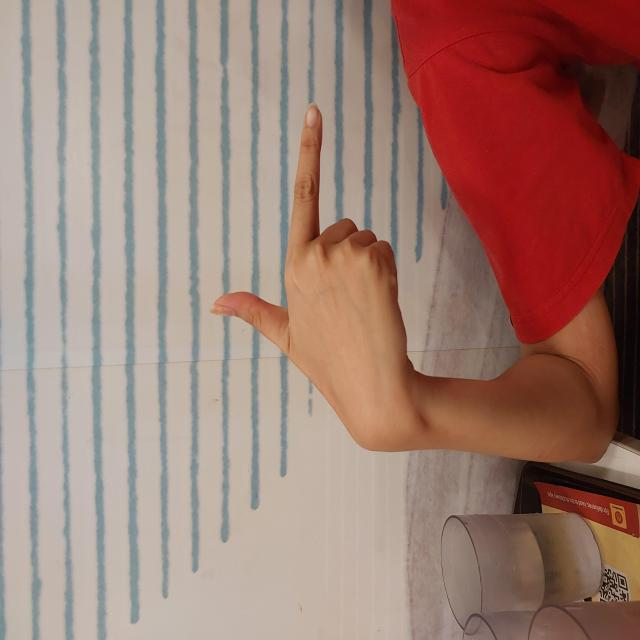G: (186, 208, 540, 415)
